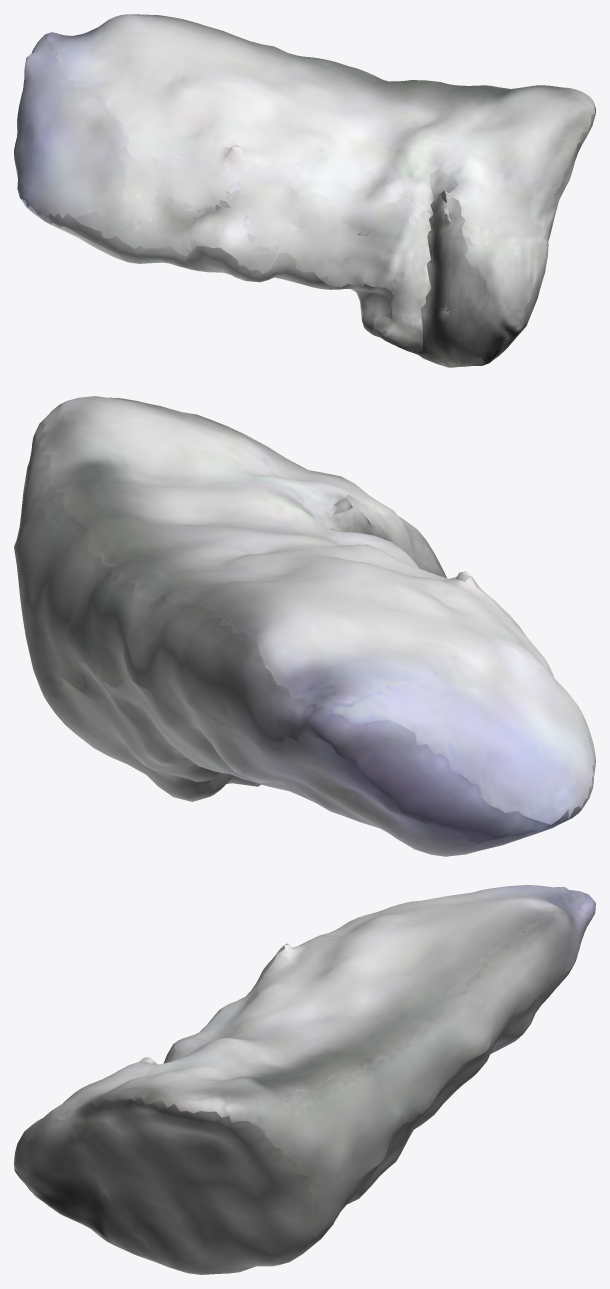
Rendered from 6_pillow.glb.
The picture shows the model from 3 angles, top to bottom: view 1: azimuth 30°, elevation 25°; view 2: azimuth 150°, elevation 25°; view 3: azimuth 270°, elevation 25°; orthographic projection. The views are drawn at different scales.
Visible parts, largest first — view 1: 6_pillow; view 2: 6_pillow; view 3: 6_pillow.
Boxes of the visible parts, box(x1,y1,x2,y2) form: 6_pillow: box(14, 14, 595, 367); 6_pillow: box(14, 396, 595, 856); 6_pillow: box(14, 885, 595, 1274).
Size of the model in its own units: 0.5983 by 0.3195 by 0.6143.
Materials: 1 (1 with a texture image).
